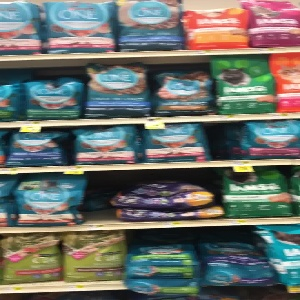void: (82, 172, 121, 221), (204, 121, 249, 163)
